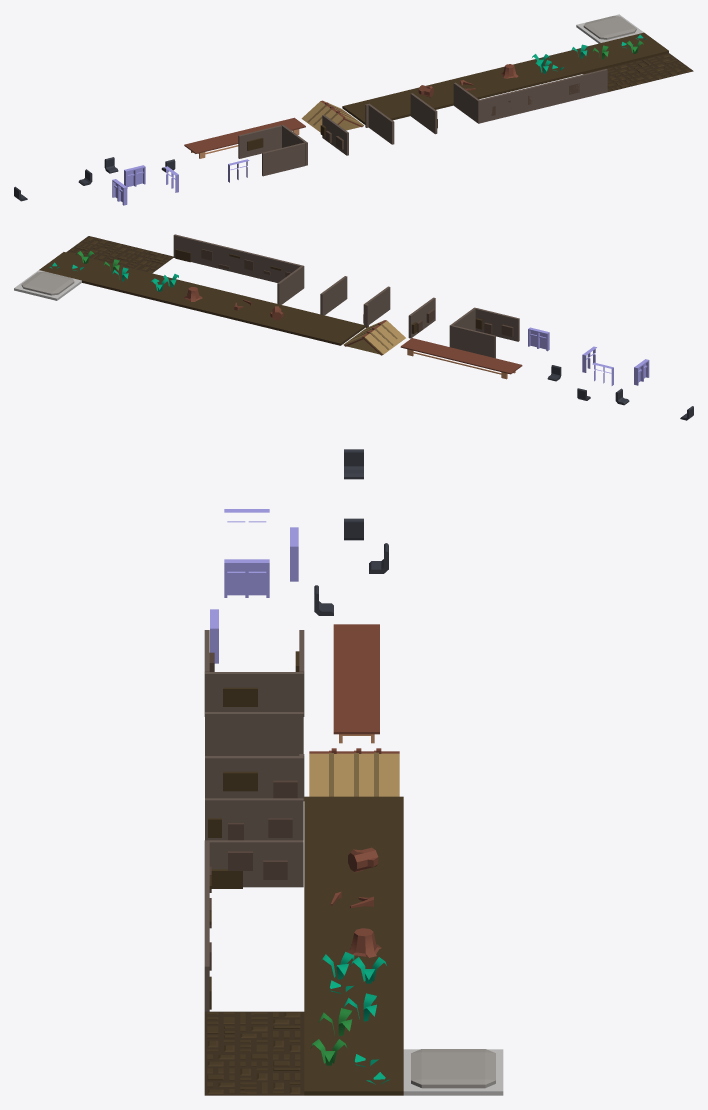
The model's file is tileset.glb.
3 views of the same model, one above another, from view 1: azimuth 30°, elevation 25°; view 2: azimuth 150°, elevation 25°; view 3: azimuth 270°, elevation 25° (orthographic). The views are drawn at different scales.
Parts seen in each view (by area): view 1: mergedBlocks(Clone); view 2: mergedBlocks(Clone); view 3: mergedBlocks(Clone).
Boxes of the visible parts, x1,y1,x2,y2 form: mergedBlocks(Clone): (14,14,693,205); mergedBlocks(Clone): (14,234,693,420); mergedBlocks(Clone): (204,449,503,1095).
Bounding box in the file's own units: 29.7 × 1.1 × 6.
Materials: 1 (1 with a texture image).
